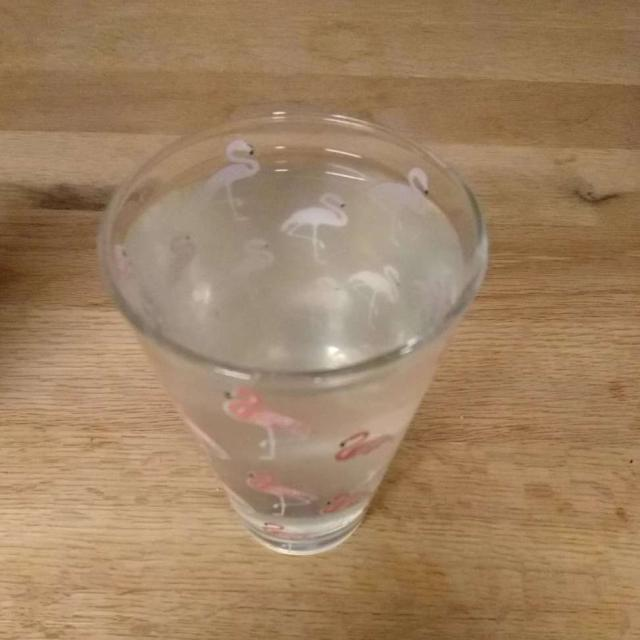drink: (102, 155, 462, 542)
